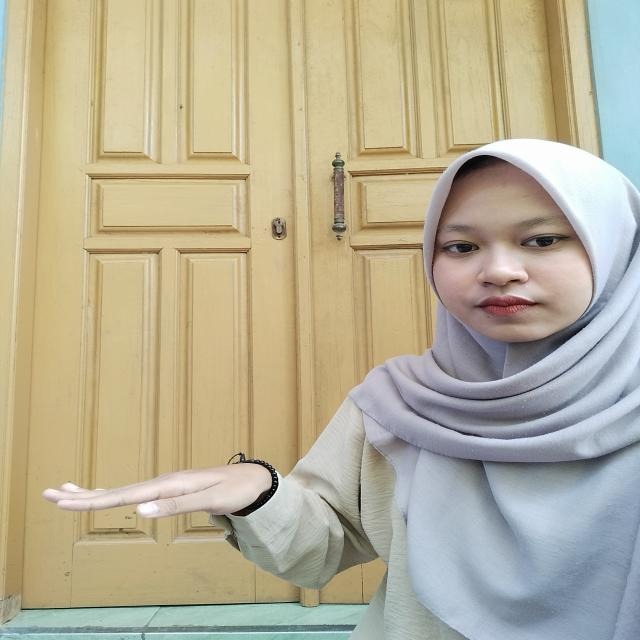adik: (29, 452, 288, 538)
